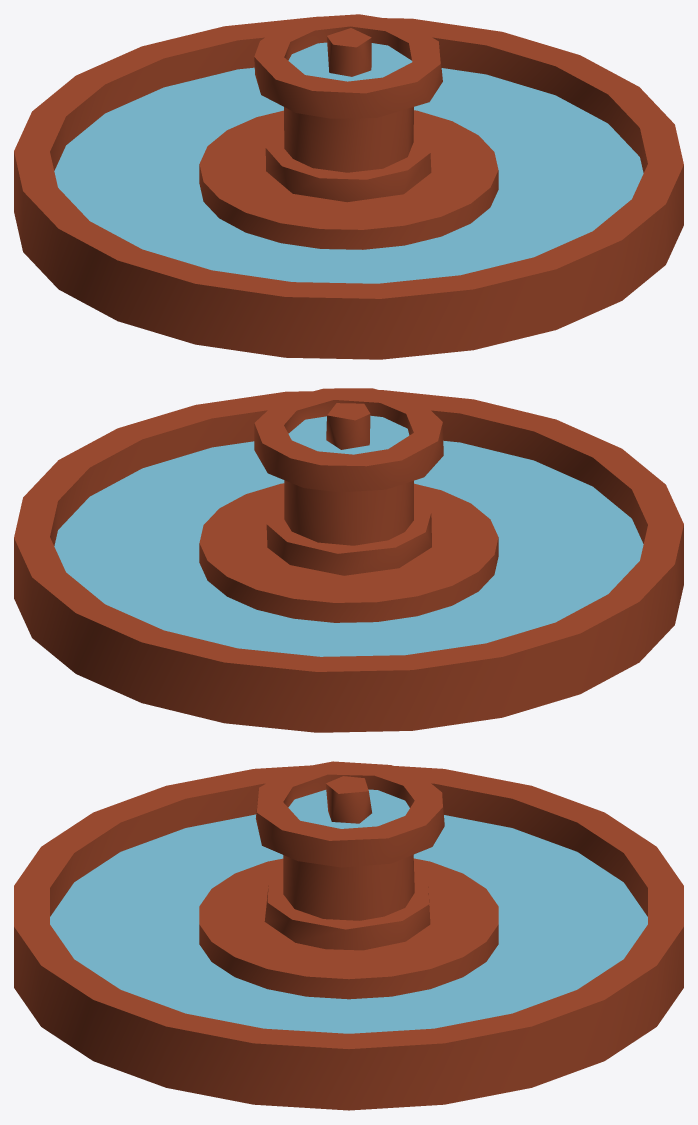
The model's file is Fountain.fbx.
3 renders of one model, top to bottom at view 1: azimuth 30°, elevation 25°; view 2: azimuth 150°, elevation 25°; view 3: azimuth 270°, elevation 25°, orthographic.
Parts seen in each view (by area): view 1: Fountain; view 2: Fountain; view 3: Fountain.
Boxes of the visible parts, left/top/right/bottom form: Fountain: left=14, top=14, right=683, bottom=359; Fountain: left=14, top=388, right=683, bottom=732; Fountain: left=14, top=761, right=683, bottom=1110.
Bounding box in the file's own units: 400 × 119 × 396.
